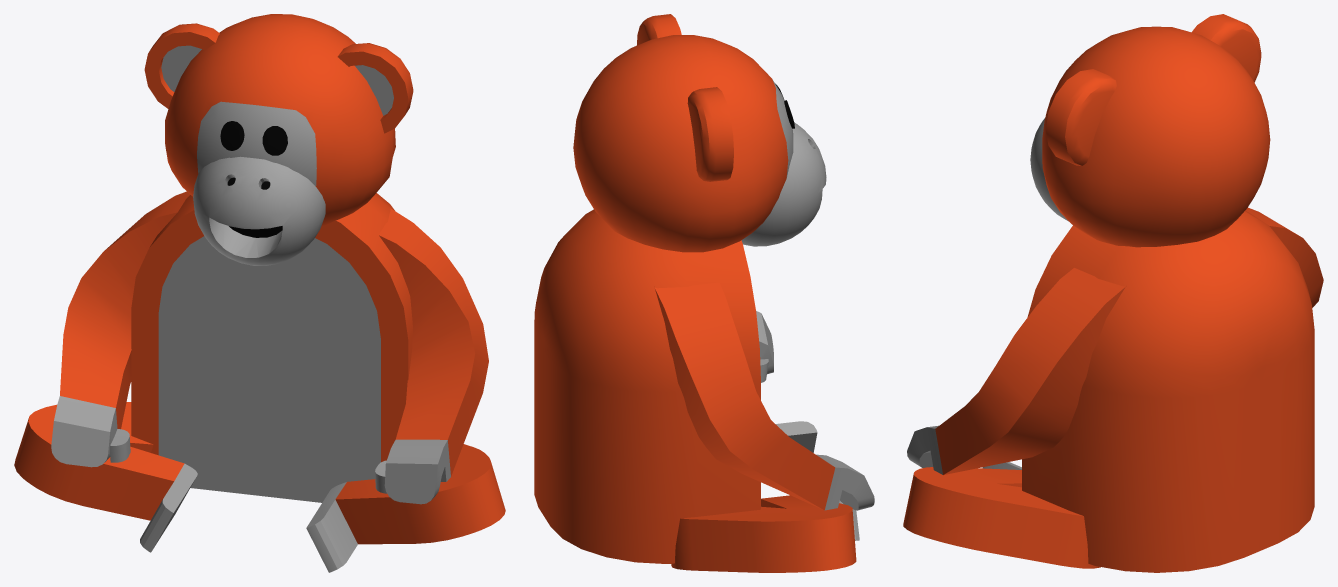
File: orangutan.gltf
3 renders of one model, left to right at view 1: azimuth 30°, elevation 25°; view 2: azimuth 150°, elevation 25°; view 3: azimuth 270°, elevation 25°, orthographic. The views are drawn at different scales.
Visible parts, largest first — view 1: Cube.6151; view 2: Cube.6151; view 3: Cube.6151.
Boxes of the visible parts, x1=… form: Cube.6151: x1=14, y1=14, x2=505, y2=572; Cube.6151: x1=534, y1=14, x2=874, y2=572; Cube.6151: x1=903, y1=14, x2=1323, y2=572.
Size of the model in its own units: 1.71 by 2.19 by 1.71.
Materials: 1 (1 with a texture image).
